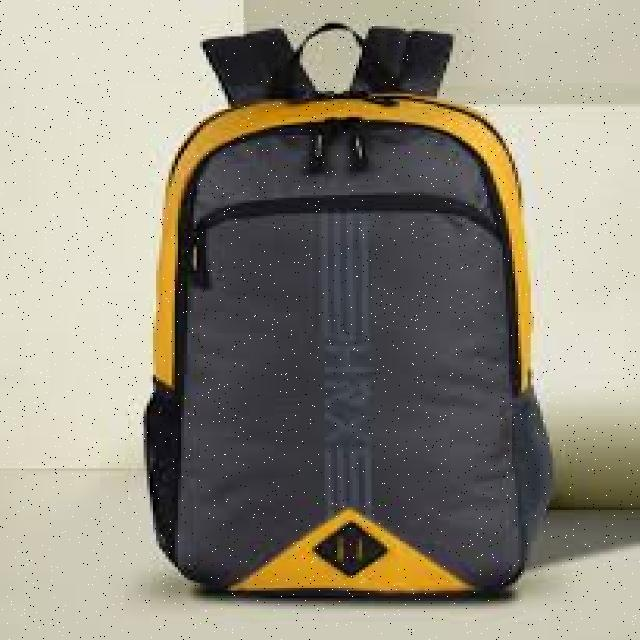backpack: (140, 21, 552, 598)
